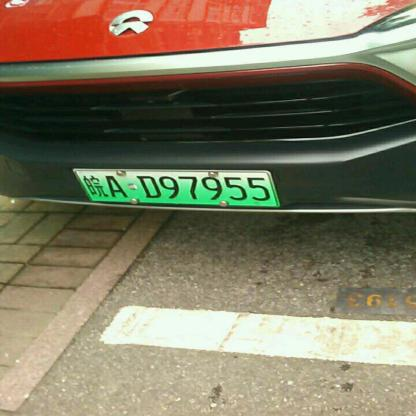lp: (75, 170, 277, 205)
